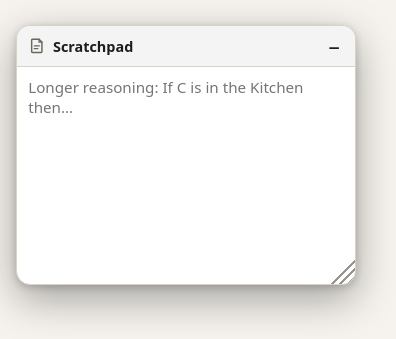
Test: Scratchpad › the minimise button closes the panel and returns focus
Click the button with test id "scratchpad-toggle" at (334, 46), box [318,30,350,62]
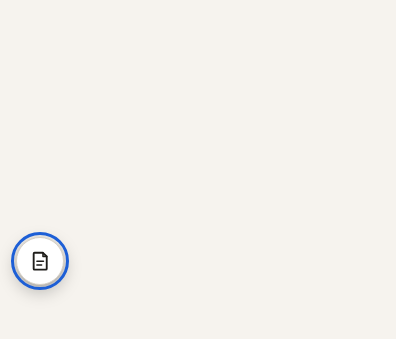
Expected: the element with test id "scratchpad-panel" is gone
